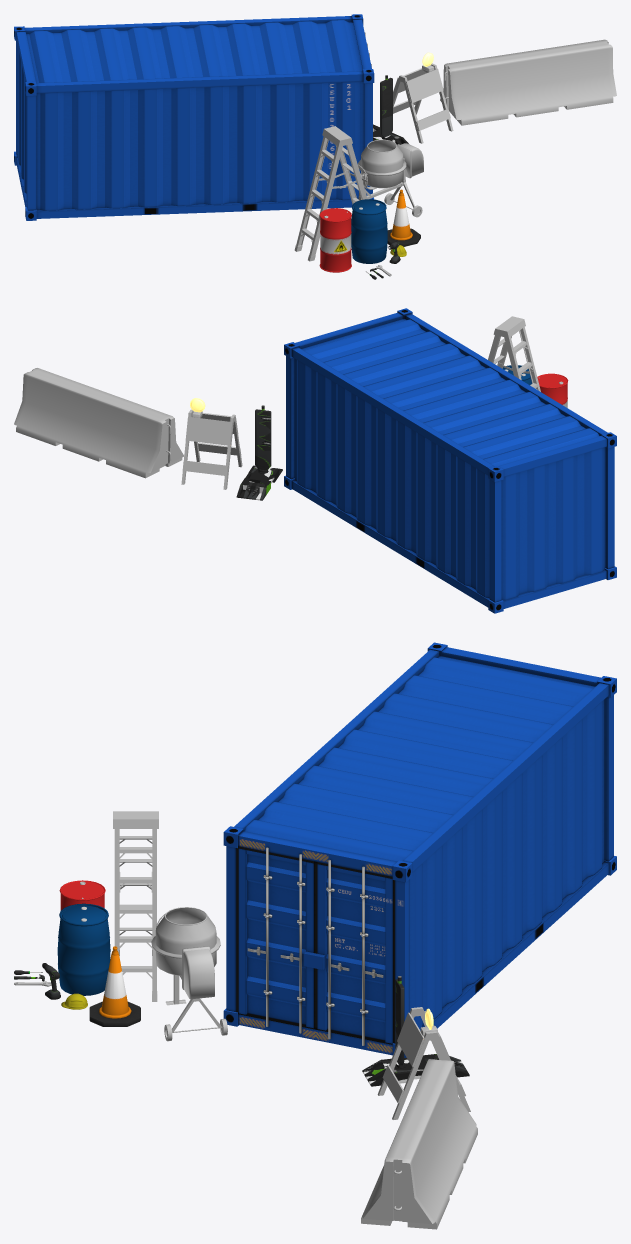
Rendered from Collection_1_15.fbx.
3 views of the same model, one above another, from view 1: azimuth 30°, elevation 25°; view 2: azimuth 150°, elevation 25°; view 3: azimuth 270°, elevation 25° (orthographic). The views are drawn at different scales.
Visible parts, largest first — view 1: Contener, Concrete_Roadblocks, Ladder.001, Roadblock_1, Water_Barrel, Oil_Barrel, Drum, Roadblocks_2, Body, Orange_Cone; view 2: Contener, Concrete_Roadblocks, Roadblock_1, Roadblocks_2, Ladder.001, Oil_Barrel; view 3: Contener, Concrete_Roadblocks, Water_Barrel, Ladder.001, Drum, Roadblock_1, Body, Orange_Cone, Roadblocks_2, Oil_Barrel.
Boxes of the visible parts, x1,y1,x2,y2 form: Contener: [14, 14, 374, 220]; Concrete_Roadblocks: [440, 39, 616, 125]; Ladder.001: [294, 126, 367, 261]; Roadblock_1: [393, 52, 453, 143]; Water_Barrel: [351, 199, 387, 263]; Oil_Barrel: [319, 208, 351, 272]; Drum: [349, 139, 406, 189]; Roadblocks_2: [373, 75, 408, 144]; Body: [358, 143, 423, 207]; Orange_Cone: [387, 189, 420, 246]; Contener: [284, 308, 616, 613]; Concrete_Roadblocks: [14, 368, 184, 478]; Roadblock_1: [181, 398, 242, 489]; Roadblocks_2: [236, 405, 282, 500]; Ladder.001: [488, 316, 540, 391]; Oil_Barrel: [537, 373, 568, 407]; Contener: [223, 642, 616, 1057]; Concrete_Roadblocks: [361, 1059, 477, 1229]; Water_Barrel: [57, 903, 110, 995]; Ladder.001: [113, 811, 158, 1001]; Drum: [151, 907, 220, 975]; Roadblock_1: [377, 1007, 470, 1119]; Body: [165, 946, 221, 1032]; Orange_Cone: [89, 946, 140, 1026]; Roadblocks_2: [362, 976, 469, 1086]; Oil_Barrel: [59, 880, 105, 910].
Bounding box in the file's own units: 1165 × 263 × 746.
